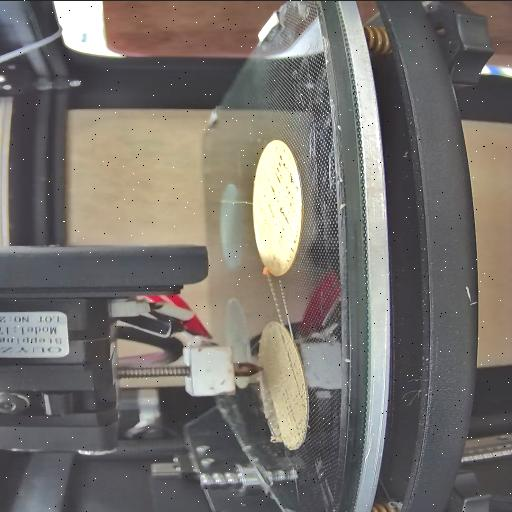under_extrusion: (269, 146, 301, 260), (274, 326, 302, 390), (264, 426, 289, 448)
